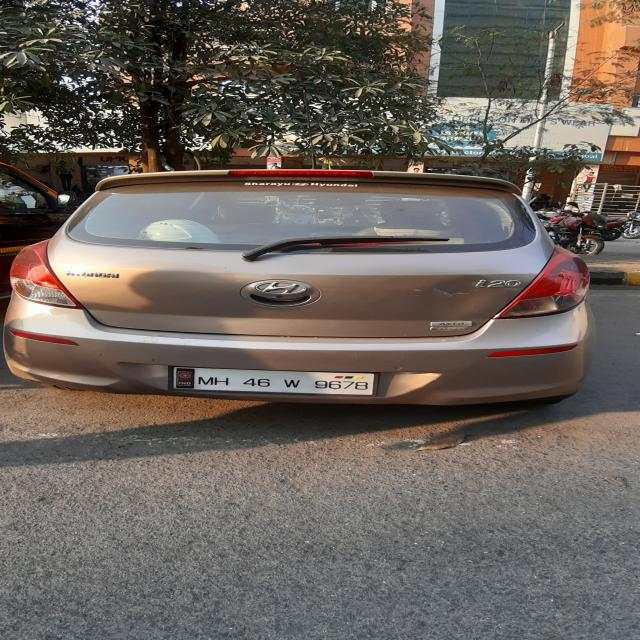Number-Plate: (175, 366, 372, 395)
